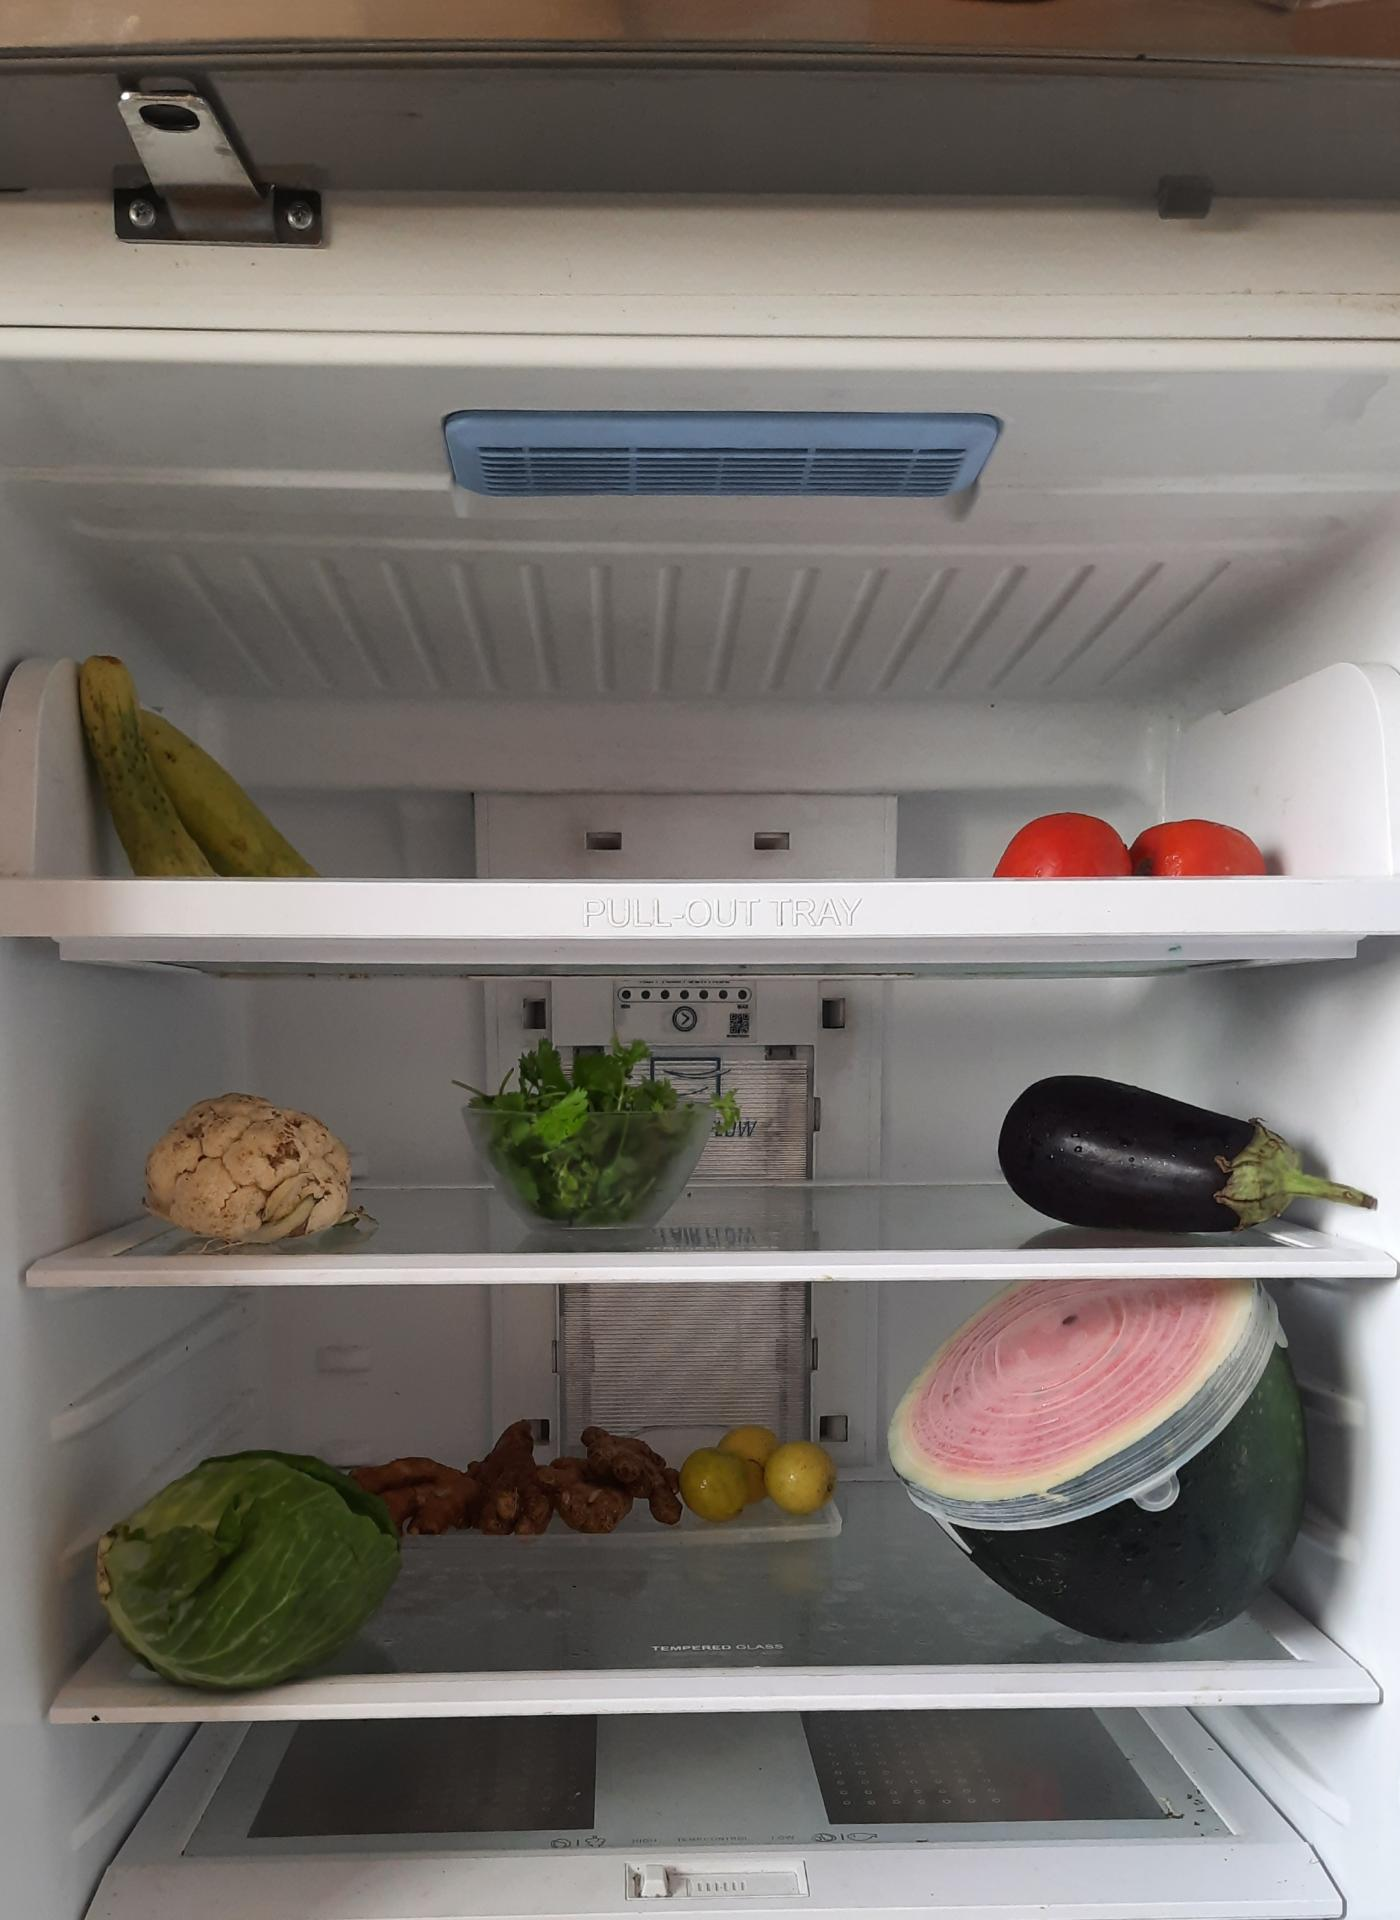cabbage: (92, 1447, 401, 1683)
cauliflower: (142, 1100, 350, 1245)
coriander: (477, 1035, 716, 1224)
cucumber: (64, 657, 306, 891)
ginger: (356, 1409, 681, 1525)
lemon: (683, 1425, 842, 1520)
tomato: (986, 1064, 1382, 1243), (991, 809, 1270, 881)
watermelon: (883, 1286, 1314, 1652)
